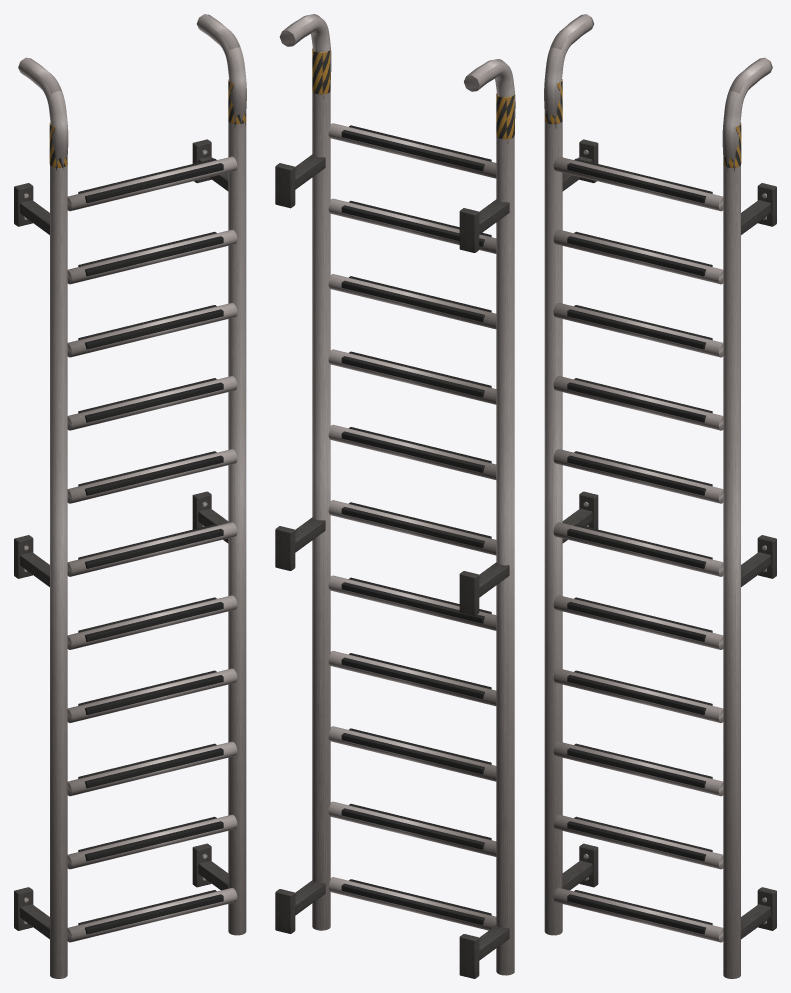
Rendered from SM_FacilityRooms_Ladder300.fbx.
The picture shows the model from 3 angles, left to right: view 1: azimuth 30°, elevation 25°; view 2: azimuth 150°, elevation 25°; view 3: azimuth 330°, elevation 25°; orthographic projection. The views are drawn at different scales.
Parts seen in each view (by area): view 1: SM_FacilityRooms_Ladder300; view 2: SM_FacilityRooms_Ladder300; view 3: SM_FacilityRooms_Ladder300.
Boxes of the visible parts, bbox=[...] form: SM_FacilityRooms_Ladder300: bbox=[14, 14, 246, 978]; SM_FacilityRooms_Ladder300: bbox=[275, 14, 515, 978]; SM_FacilityRooms_Ladder300: bbox=[544, 14, 776, 978].
Size of what is drawn, in the model's own units: 75 by 30 by 330.
